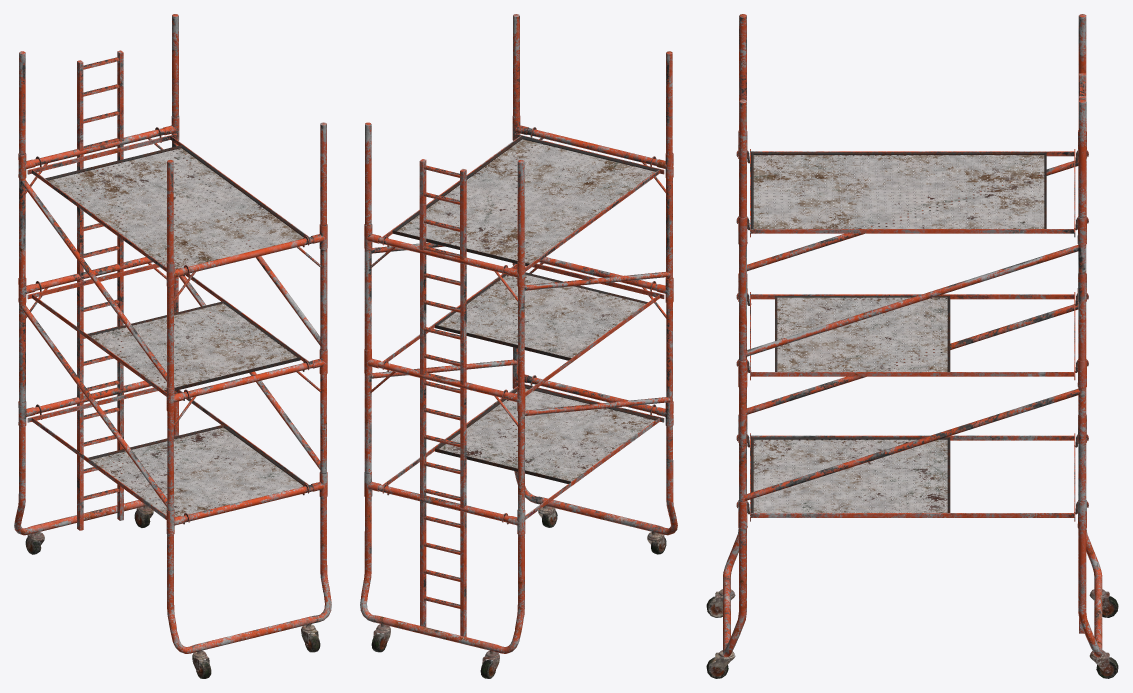
File: scaffold.glb
The picture shows the model from 3 angles, left to right: view 1: azimuth 30°, elevation 25°; view 2: azimuth 150°, elevation 25°; view 3: azimuth 270°, elevation 25°; orthographic projection. The views are drawn at different scales.
Parts seen in each view (by area): view 1: PART_01, PART_02, PART_03; view 2: PART_01, PART_02, PART_03; view 3: PART_02, PART_01, PART_03.
Part boxes in pixels (x1,y1,x2,y2): PART_01: [14, 14, 331, 653]; PART_02: [48, 148, 303, 516]; PART_03: [25, 505, 320, 678]; PART_01: [360, 14, 677, 653]; PART_02: [397, 139, 655, 481]; PART_03: [371, 505, 666, 678]; PART_02: [753, 155, 1044, 512]; PART_01: [723, 14, 1102, 657]; PART_03: [706, 589, 1118, 678].
Bounding box in the file's own units: 2.97 × 9.11 × 5.77.
3 materials, 3 textured.
